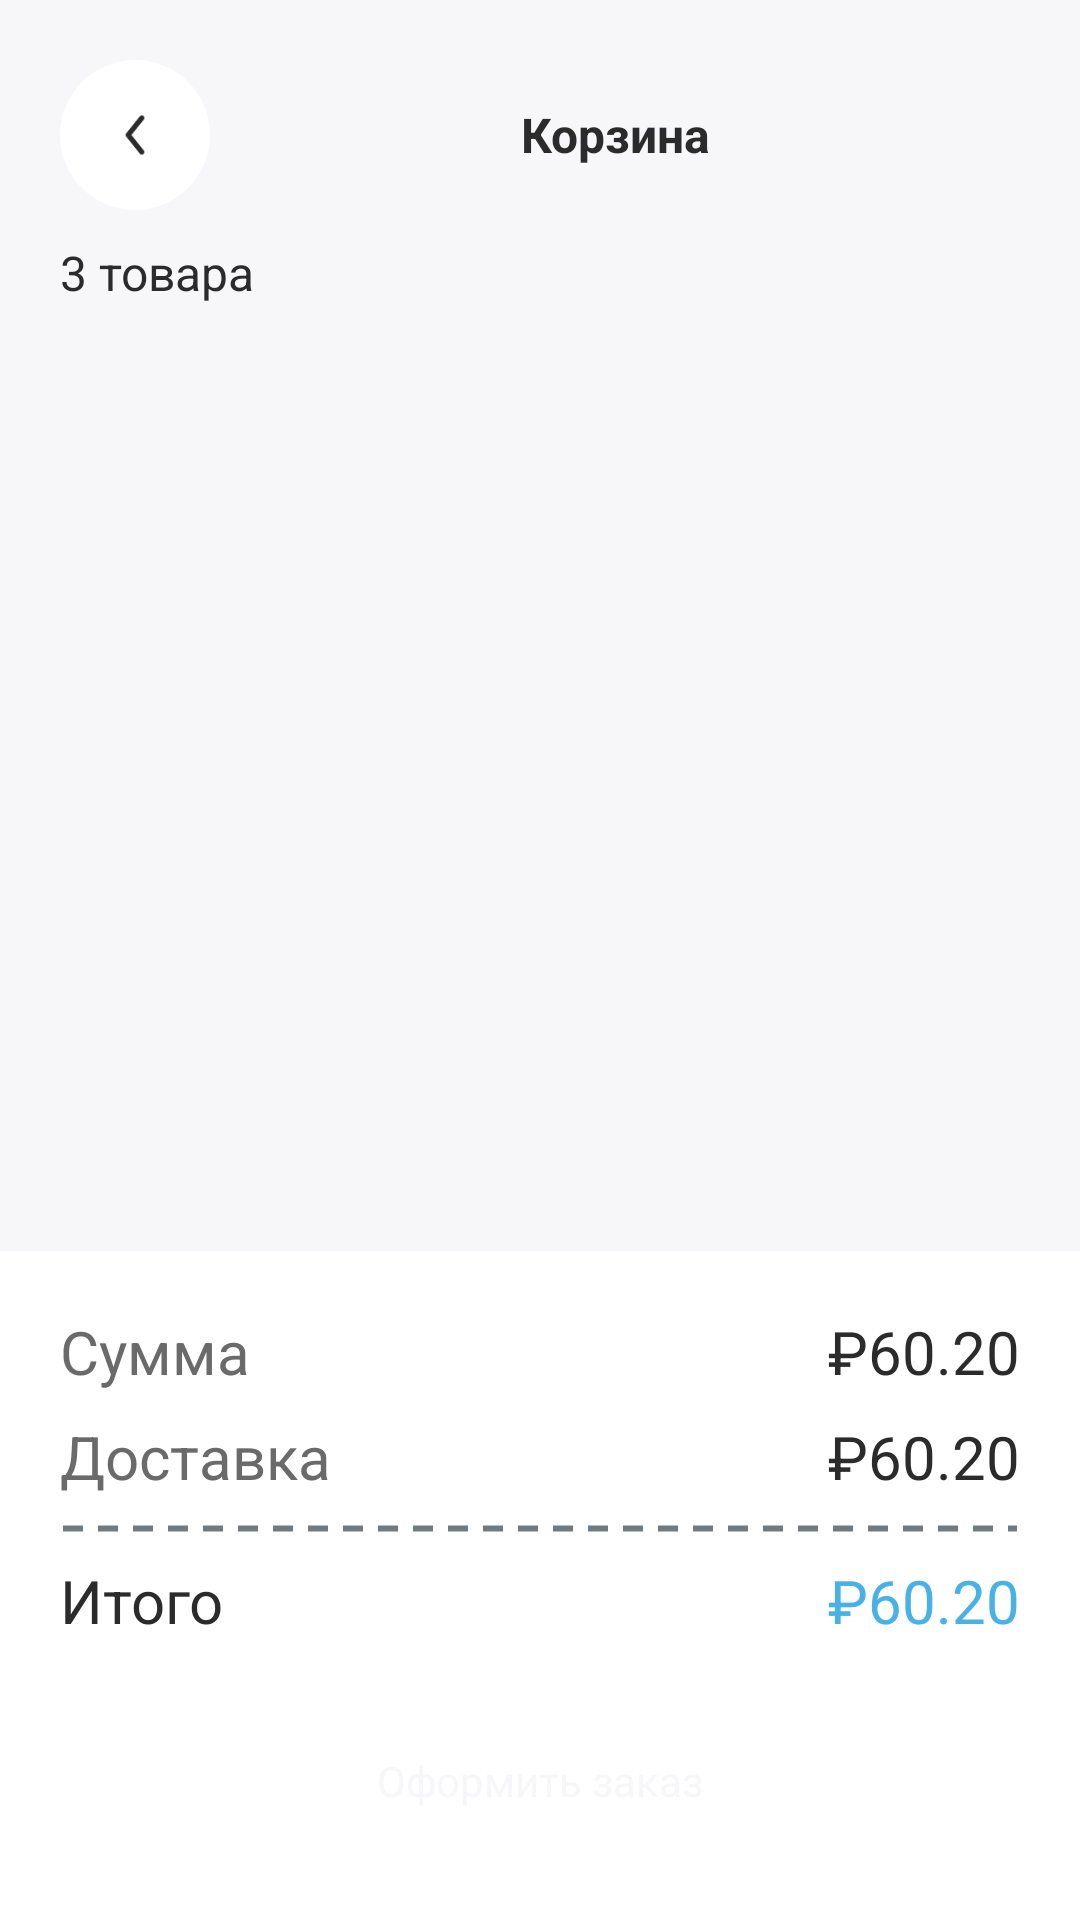

Icons on this 1080px×1920px Android screen, each with the point to tap as [x,y]:
back: [135,135]
